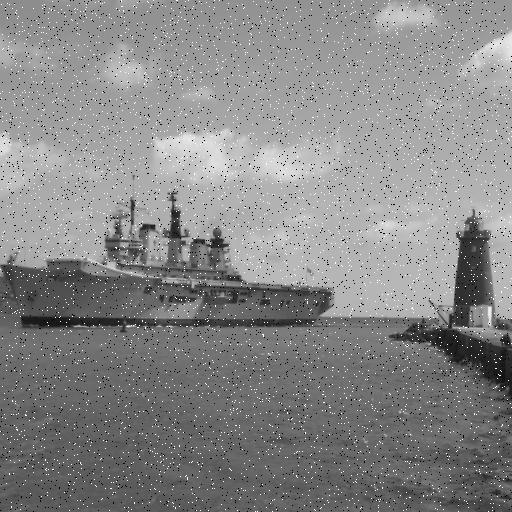Portanaves: (1, 167, 339, 334)
